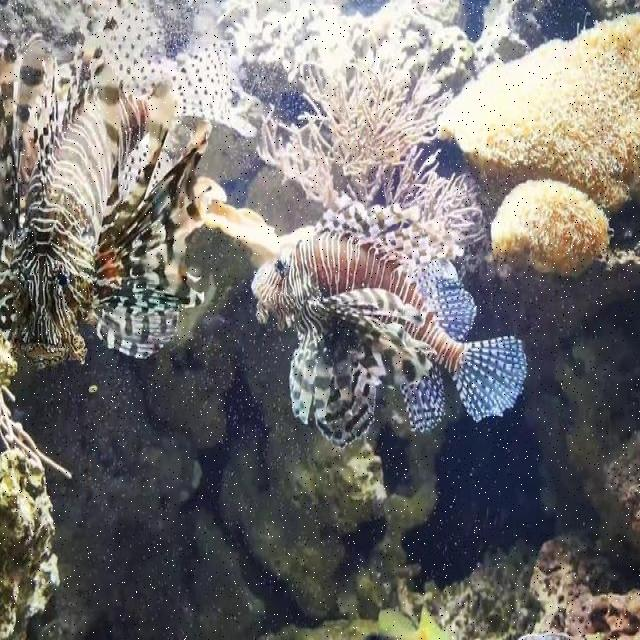fish: (1, 3, 251, 369), (244, 197, 530, 451)
